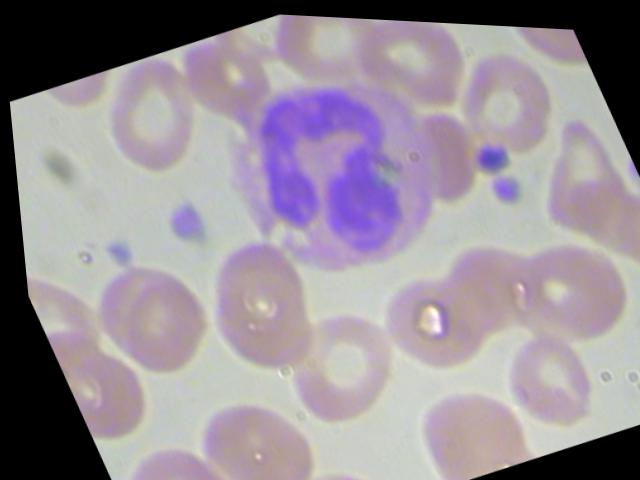Platelets: (148, 188, 222, 259), (476, 157, 534, 215), (88, 223, 138, 279), (463, 126, 515, 174)
Red Blood Cells: (253, 283, 418, 444), (173, 218, 337, 379), (71, 42, 225, 191), (484, 216, 639, 359), (426, 26, 576, 173), (360, 251, 500, 382), (473, 307, 606, 442), (393, 355, 535, 479), (89, 257, 224, 387), (341, 14, 487, 129), (174, 376, 323, 479), (265, 11, 397, 108), (95, 421, 241, 479)
White Blood Cells: (191, 37, 476, 304)
